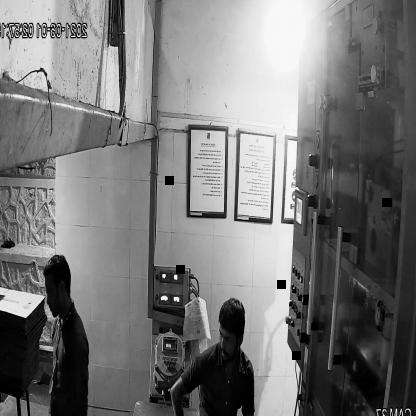no_goggles: (216, 323, 246, 349)
